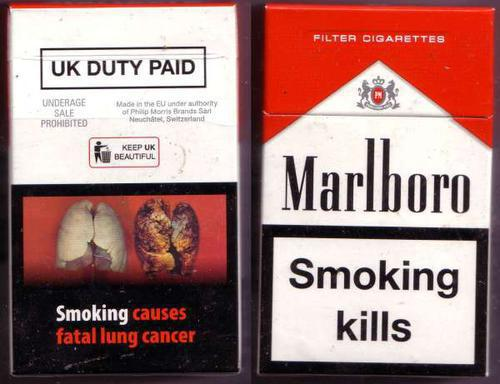marlboro: (257, 8, 496, 376)
